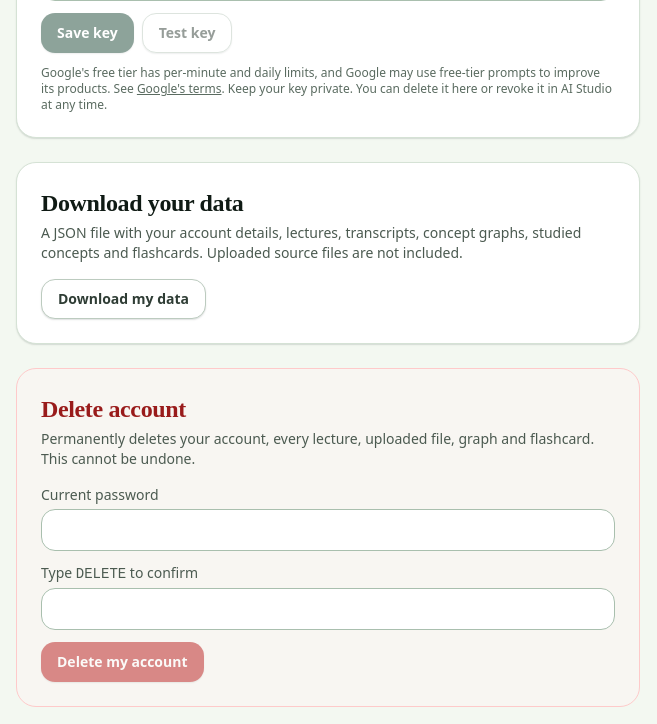
Test case: Settings page › keeps delete disabled until DELETE and the password are provided
The image size is (657, 724).
(page scrolled)
Expected: the button "Delete my account" is disabled, [41,642,204,682]
Step 1. Type "DELETE" into the field labelled "Type DELETE to confirm" → (328, 609), box [41,588,615,630]
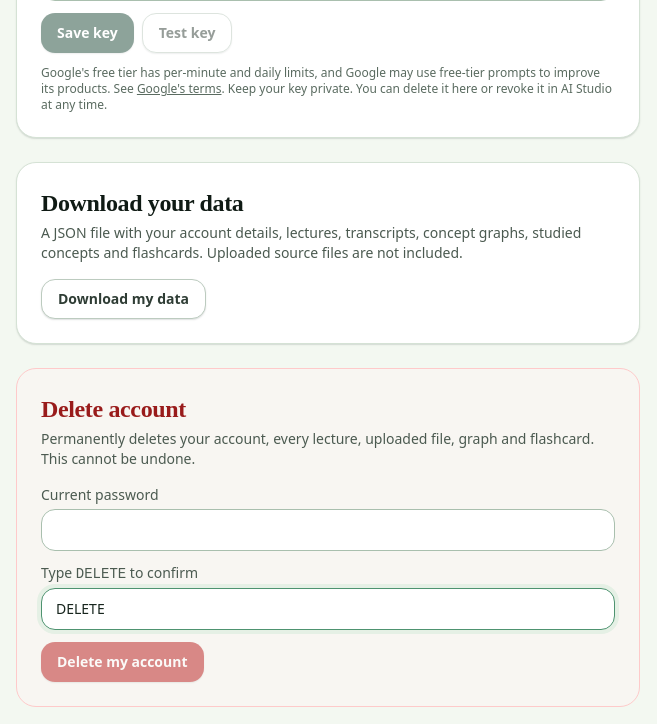
Expected: the button "Delete my account" is disabled, [41,642,204,682]
Step 2. Type "pw" into the password field labelled "Current password" → (328, 530), box [41,509,615,551]
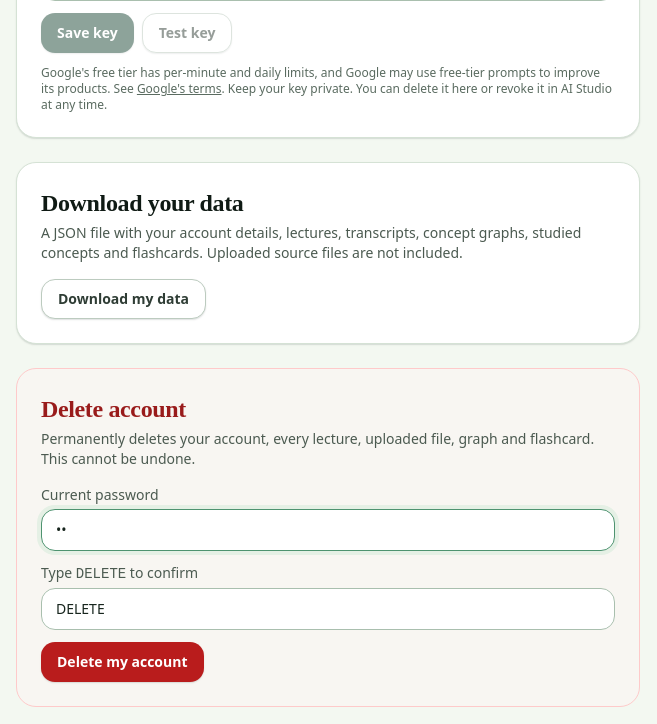
Expected: the button "Delete my account" is enabled, [41,642,204,682]
